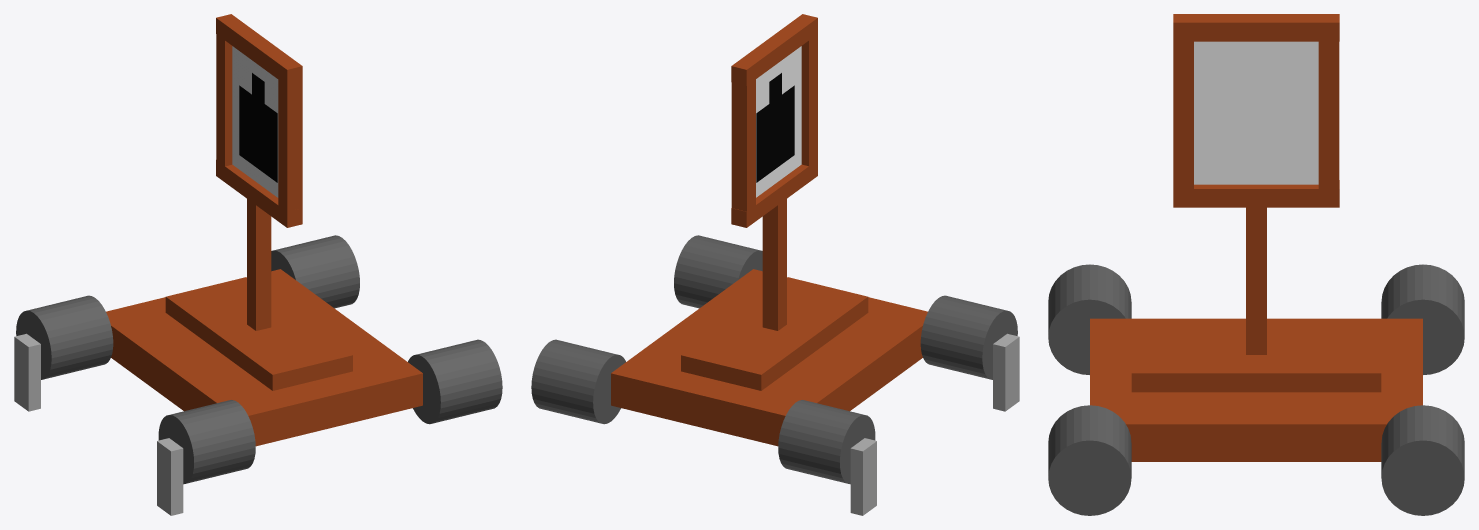
The model's file is SM_Target.fbx.
3 views of the same model, side by side, from view 1: azimuth 30°, elevation 25°; view 2: azimuth 150°, elevation 25°; view 3: azimuth 270°, elevation 25° (orthographic). The views are drawn at different scales.
Visible parts, largest first — view 1: 立方体.009; view 2: 立方体.009; view 3: 立方体.009.
Boxes of the visible parts, <box> form: 立方体.009: <box>14,14,502,515</box>; 立方体.009: <box>531,14,1019,515</box>; 立方体.009: <box>1048,14,1464,515</box>.
Bounding box in the file's own units: 260 × 291 × 250.
Materials: 5 (5 with a texture image).
